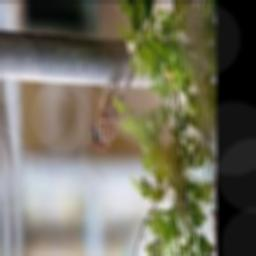Sparrow: (92, 73, 135, 152)
